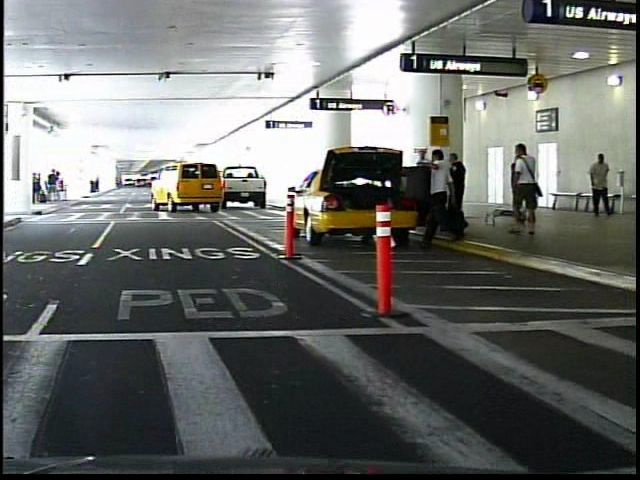person: (504, 138, 539, 240), (581, 148, 610, 219)
